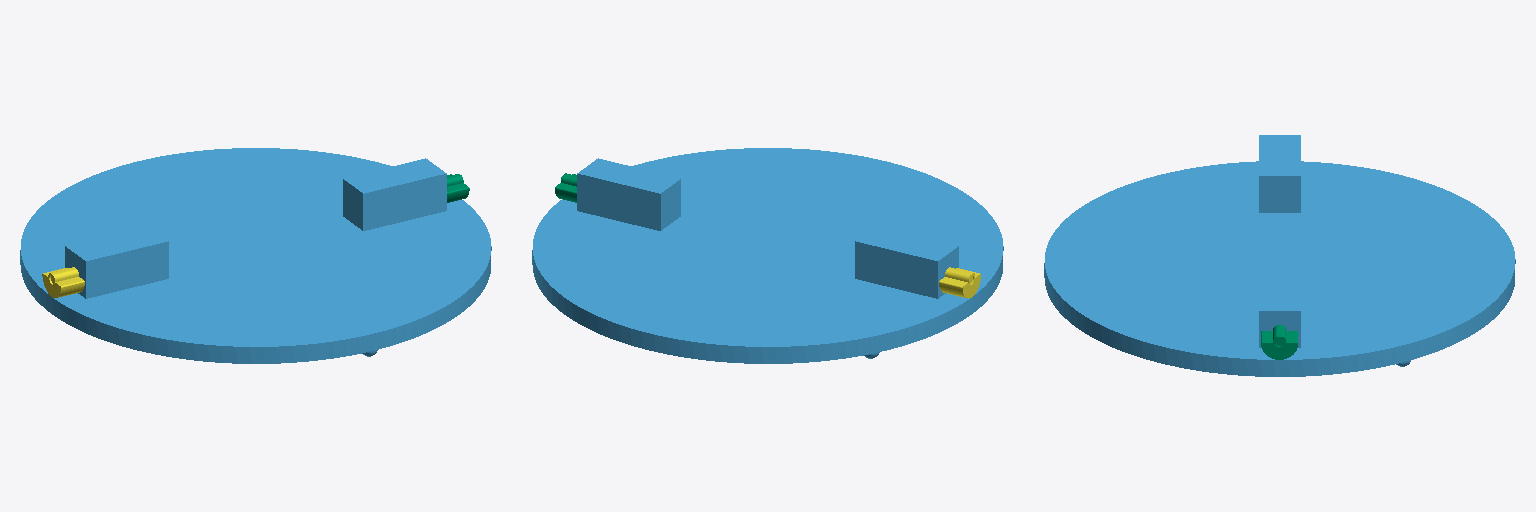
The robot description file, URDF, robot "microrobot":
<?xml version="1.0"?>

<robot name="microrobot">

    <link name="dummy_link">
        <!-- [ WARN] [1647026126.424341897]: The root link platform_link has an 
                inertia specified in the URDF, but KDL does not support a root link with
                an inertia.  As a workaround, you can add an extra dummy link to your 
                URDF.  -->
        <origin rpy="0 0 -0"
                xyz="0 0 0.2"/>
    </link>
    
    <joint name="dl_to_platform" type="fixed">
        <parent link="dummy_link"/>
        <child link="platform_link"/>
    </joint>

    <link name="platform_link">
        
        <visual>
            <geometry>
                <mesh filename="package://microrobot/meshes/scrap/Low_poly_v2.stl" 
                      scale="0.001 0.001 0.001"/>
            </geometry>
        </visual>

        <collision>
            <geometry>
                <mesh filename="package://microrobot/meshes/scrap/Low_poly_v2.stl" 
                      scale="0.001 0.001 0.001"/>
            </geometry>

            <!-- <surface>
                <friction>
                    <ode>
                        <mu>0.4</mu>
                    </ode>
                </friction>
            </surface> -->
        </collision>

        <inertial>
            <!-- 0.120  -->
            <mass value="0.120"/>
            <inertia ixx="0.0000187899" 
                    ixy="0.0" ixz="0.0" 
                    iyy="0.0000187899"  
                    iyz="0" 
                    izz="0.000037499996" />
        </inertial>
    </link>

    <link name="left_eccenter">
        <visual>
            <origin rpy="1.571 0 1.571"/>
            <geometry>
                <mesh filename="package://microrobot/models/Eccenter_v3.stl" 
                    scale="0.001 0.001 0.001"/>
            </geometry>
        </visual>

        <collision>
            <origin rpy="1.571 0 1.571"/>
            <geometry>
                <mesh filename="package://microrobot/models/Eccenter_v3.stl" 
                      scale="0.001 0.001 0.001"/>
            </geometry>
        </collision>

        <inertial>
            <mass value="0.00021"/>
            <inertia ixx="0.000000000239" 
                ixy="0.0" ixz="0.0" 
                iyy="0.000000000271"  
                iyz="-0.000000000002" 
                izz="0.000000000344" />
        </inertial>
    </link>


    <joint name="left_eccenter_joint" type="continuous">
        <parent link="platform_link"/>
        <child link="left_eccenter"/>
        <!-- <dynamics damping="0.0" friction="0.001"/> -->
        <axis xyz="1 0 0"/>
        <origin xyz="0.022 0 0.004"/>
    </joint> 

    <link name="right_eccenter">
        <visual>
            <origin rpy="1.571 0 -1.571"/>
            <geometry>
            <mesh filename="package://microrobot/models/Eccenter_v3.stl" 
                  scale="0.001 0.001 0.001"/>
            </geometry>
        </visual>

        <collision>
            <origin rpy="1.571 0 -1.571"/>
            <geometry>
                <mesh filename="package://microrobot/models/Eccenter_v3.stl" 
                      scale="0.001 0.001 0.001"/>
            </geometry>
        </collision>

        <inertial>
            <mass value="0.00021"/>
            <inertia ixx="0.000000000239" 
                ixy="0.0" ixz="0.0" 
                iyy="0.000000000271"  
                iyz="-0.000000000002" 
                izz="0.000000000344" />
        </inertial>
    </link>
    
    <joint name="right_eccenter_joint" type="continuous">
        <parent link="platform_link"/>
        <child link="right_eccenter"/>
        <!-- <dynamics damping="0.0" friction="0.001"/> -->
        <axis xyz="1 0 0"/>
        <origin xyz="-0.022 0 0.004"/>
    </joint>

    <gazebo reference="platform_link">
        <mu1>0.4</mu1>
    </gazebo>

</robot>

--- Facts derived from the render (not from the file) ---
Views: 3 orthographic renders of the robot side by side, from view 1: azimuth 30°, elevation 25°; view 2: azimuth 150°, elevation 25°; view 3: azimuth 270°, elevation 25°.
Model microrobot with 4 links and 3 joints (2 continuous, 1 fixed), rooted at dummy_link, posed all joints at 0.
Visible links, largest first — view 1: platform_link, right_eccenter; view 2: platform_link, right_eccenter; view 3: platform_link, left_eccenter.
Boxes of the visible links, left/top/right/bottom form: platform_link: left=20, top=148, right=491, bottom=363; right_eccenter: left=42, top=267, right=84, bottom=297; platform_link: left=532, top=148, right=1003, bottom=363; right_eccenter: left=939, top=267, right=980, bottom=298; platform_link: left=1044, top=135, right=1515, bottom=376; left_eccenter: left=1261, top=325, right=1297, bottom=359.
Bounding box of the posed robot: 0.05 × 0.05 × 0.0074 m (x, y, z).
3 mesh visuals loaded from 2 distinct referenced files (2 binary STL).